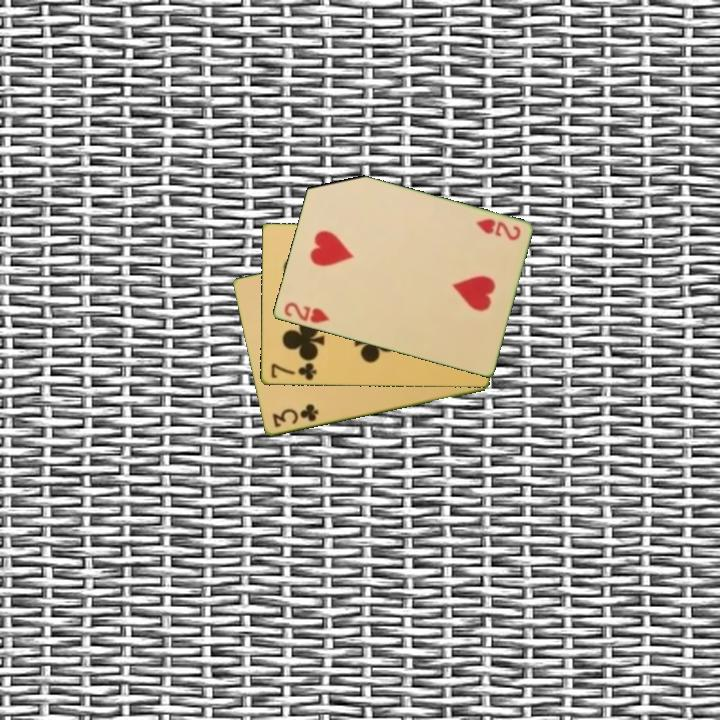2h: (472, 215, 523, 244), (280, 299, 332, 326)
3c: (268, 401, 321, 430)
7c: (267, 359, 319, 383)
